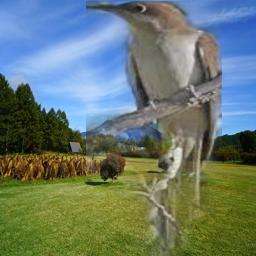Cuckoo: (86, 1, 222, 256)
